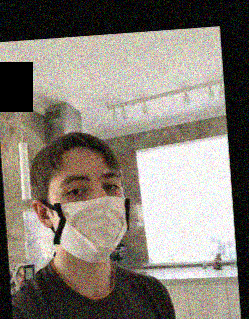with_mask: (53, 168, 131, 264)
